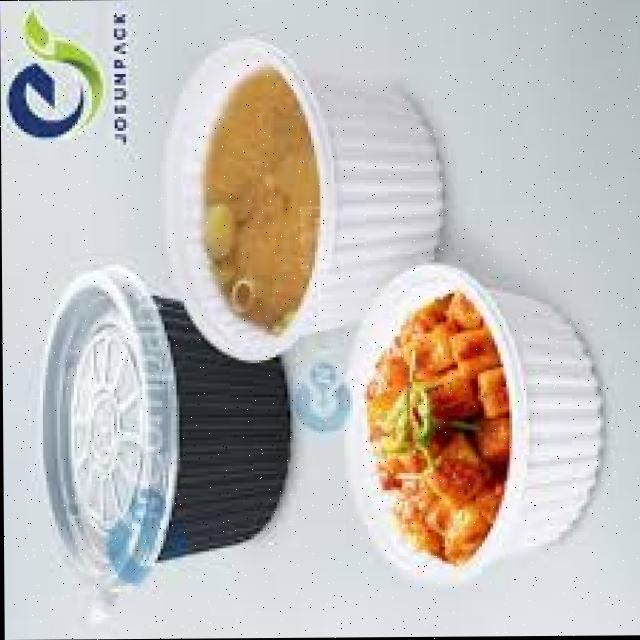disposable: (156, 35, 457, 363), (329, 248, 615, 586), (32, 255, 308, 603)
